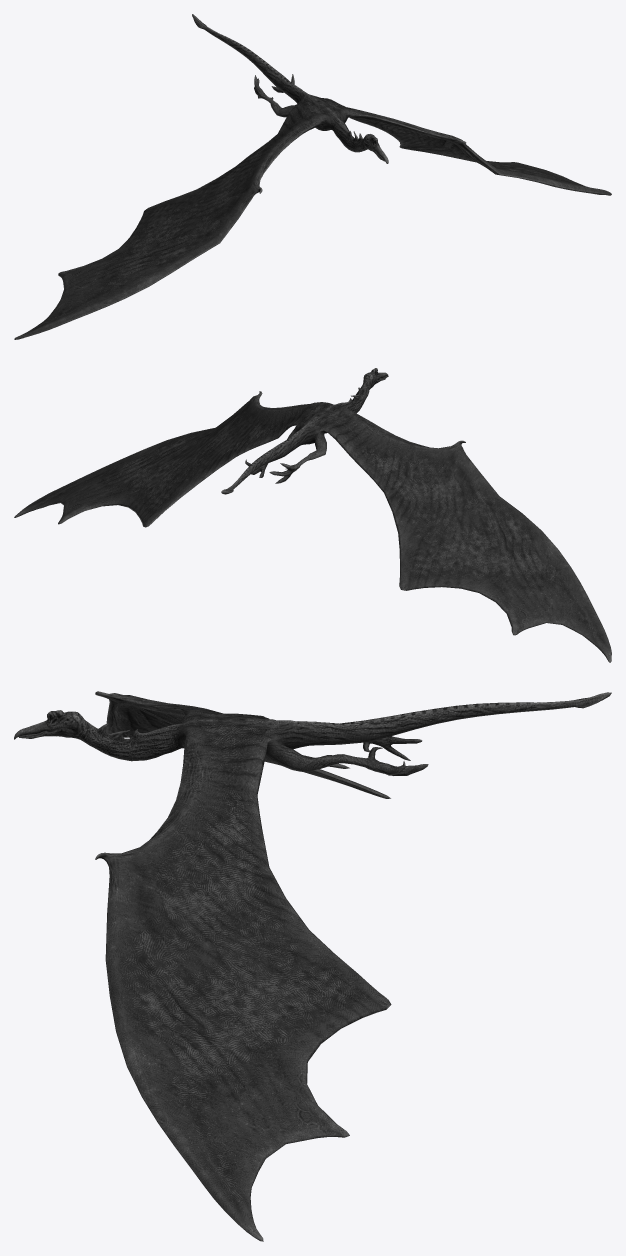
Rendered from Fellbeast_Animate_Flying_22.obj.
3 renders of one model, top to bottom at view 1: azimuth 30°, elevation 25°; view 2: azimuth 150°, elevation 25°; view 3: azimuth 270°, elevation 25°, orthographic. The views are drawn at different scales.
Visible parts, largest first — view 1: Fellbeast; view 2: Fellbeast; view 3: Fellbeast.
Boxes of the visible parts, x1,y1,x2,y2 form: Fellbeast: [14, 14, 611, 339]; Fellbeast: [14, 368, 611, 662]; Fellbeast: [14, 691, 611, 1241].
Size of the model in its own units: 8.35 by 2.41 by 4.39.
